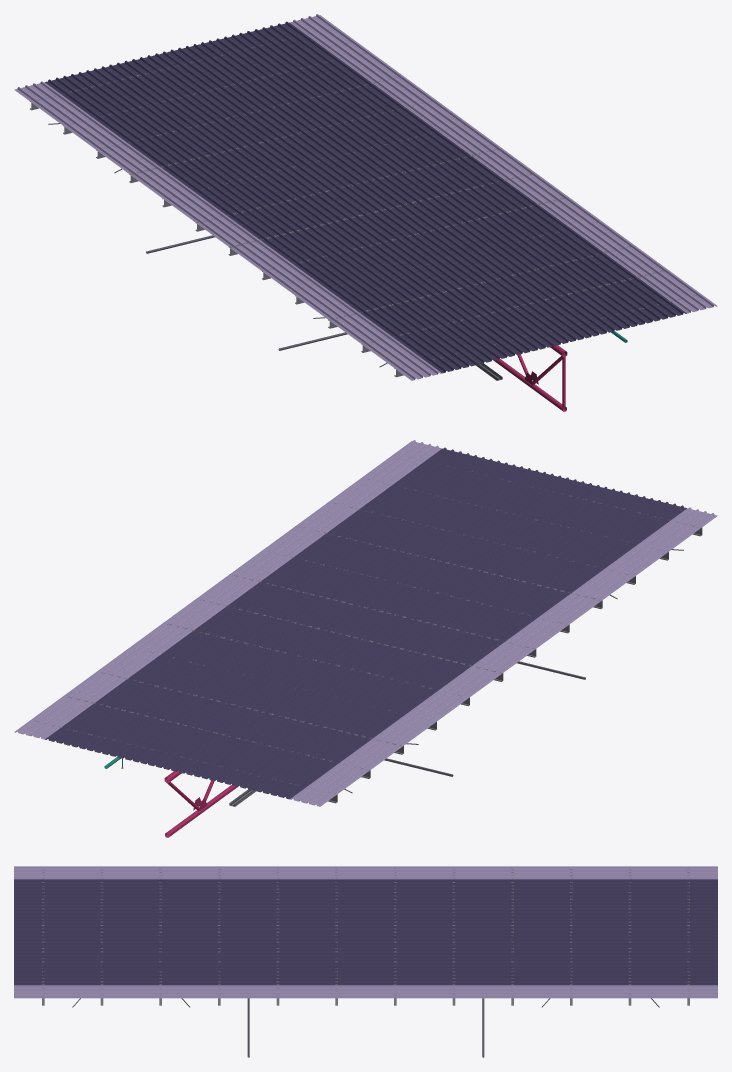
The model's file is roof_truss.glb.
The picture shows the model from 3 angles, top to bottom: view 1: azimuth 30°, elevation 25°; view 2: azimuth 150°, elevation 25°; view 3: azimuth 270°, elevation 25°; orthographic projection. The views are drawn at different scales.
Visible parts, largest first — view 1: RoofTruss; view 2: RoofTruss; view 3: RoofTruss.
Part boxes in pixels (x1,y1,x2,y2): RoofTruss: (14,14,717,411); RoofTruss: (14,440,717,837); RoofTruss: (14,866,717,1057).
Bounding box in the file's own units: 8 × 1.74 × 18.
